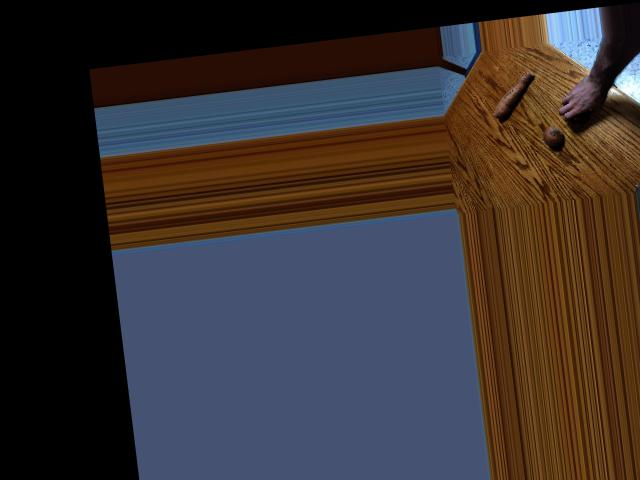onion: (567, 100, 592, 124)
